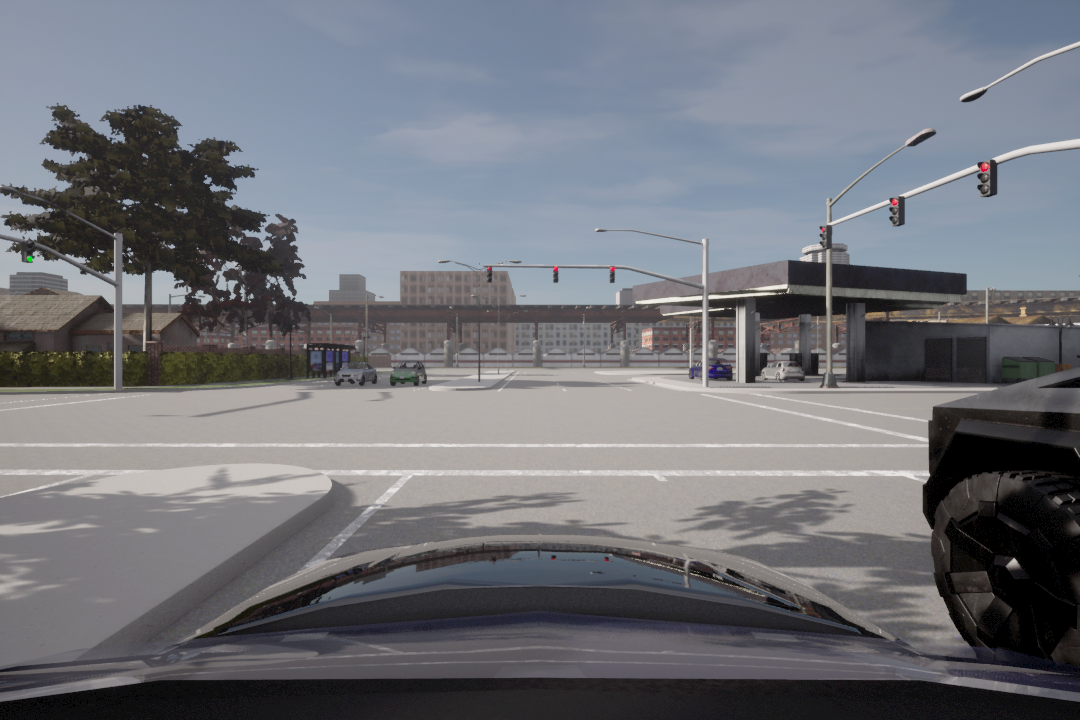TrafficLight: (974, 158, 1000, 201), (889, 194, 906, 227), (819, 223, 834, 249), (484, 264, 496, 284), (609, 264, 617, 283), (552, 264, 560, 282)
